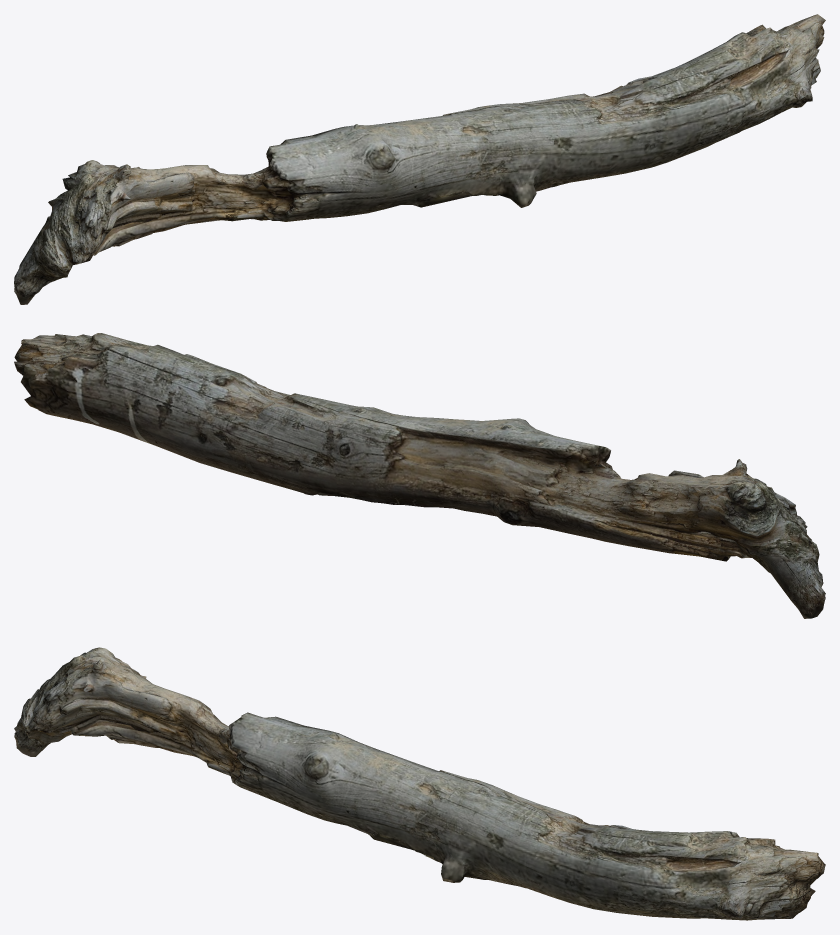
3 views of the same model, one above another, from view 1: azimuth 30°, elevation 25°; view 2: azimuth 150°, elevation 25°; view 3: azimuth 330°, elevation 25° (orthographic).
Parts seen in each view (by area): view 1: Branch; view 2: Branch; view 3: Branch.
Part boxes in pixels (x1,y1,x2,y2): Branch: (14, 14, 825, 304); Branch: (14, 333, 825, 618); Branch: (14, 647, 825, 920).
Bounding box in the file's own units: 24.28 × 3.73 × 2.98.
Materials: 1 (1 with a texture image).
